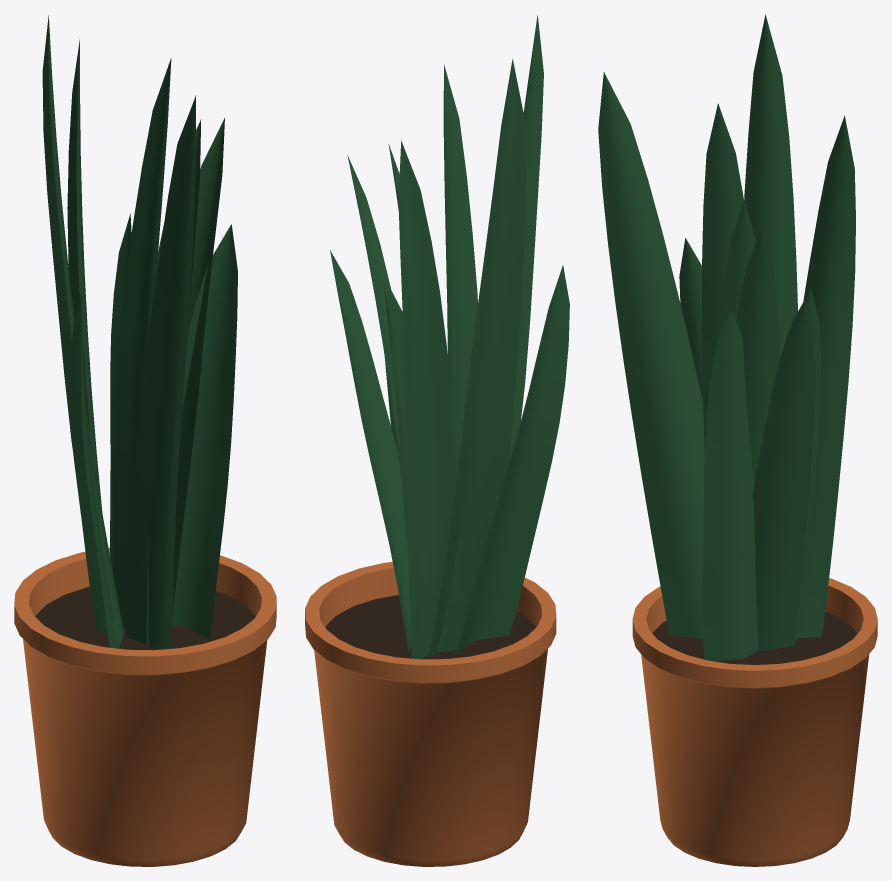
The model's file is snake_plant.fbx.
The picture shows the model from 3 angles, left to right: view 1: azimuth 30°, elevation 25°; view 2: azimuth 150°, elevation 25°; view 3: azimuth 270°, elevation 25°; orthographic projection. The views are drawn at different scales.
Visible parts, largest first — view 1: snake_plant; view 2: snake_plant; view 3: snake_plant.
Part boxes in pixels (x1,y1,x2,y2): snake_plant: [14, 15, 276, 866]; snake_plant: [305, 15, 569, 866]; snake_plant: [598, 14, 877, 866].
Bounding box in the file's own units: 0.2544 × 0.885 × 0.29.
